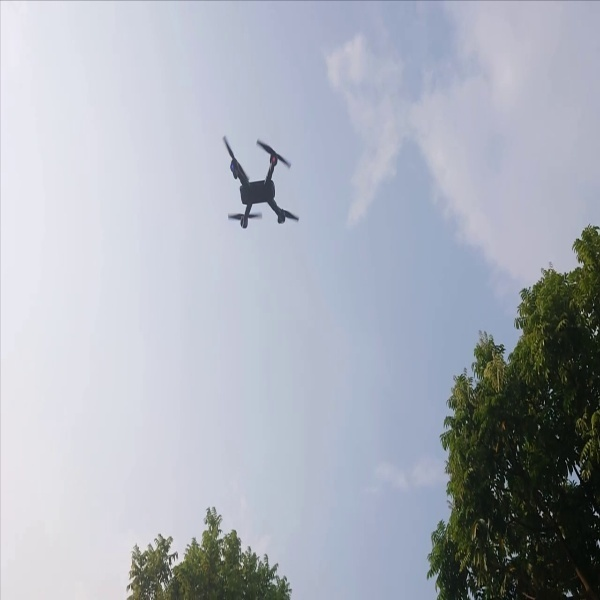drone: (210, 129, 309, 235)
